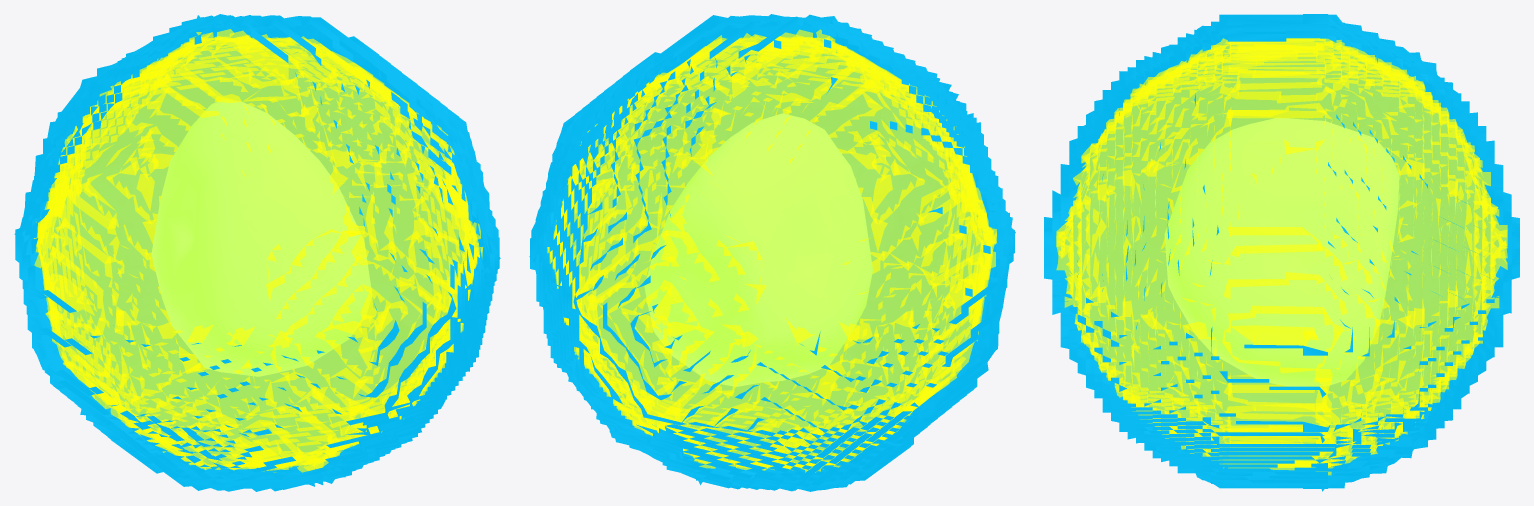
Rendered from segregation.glb.
The picture shows the model from 3 angles, left to right: view 1: azimuth 30°, elevation 25°; view 2: azimuth 150°, elevation 25°; view 3: azimuth 270°, elevation 25°; orthographic projection.
Parts seen in each view (by area): view 1: segregation.001; view 2: segregation.001; view 3: segregation.001.
Part boxes in pixels (x1,y1,x2,y2): segregation.001: (14,14,500,491); segregation.001: (529,14,1015,491); segregation.001: (1044,14,1519,491).
Size of the model in its own units: 1.14 by 1.14 by 1.14.
